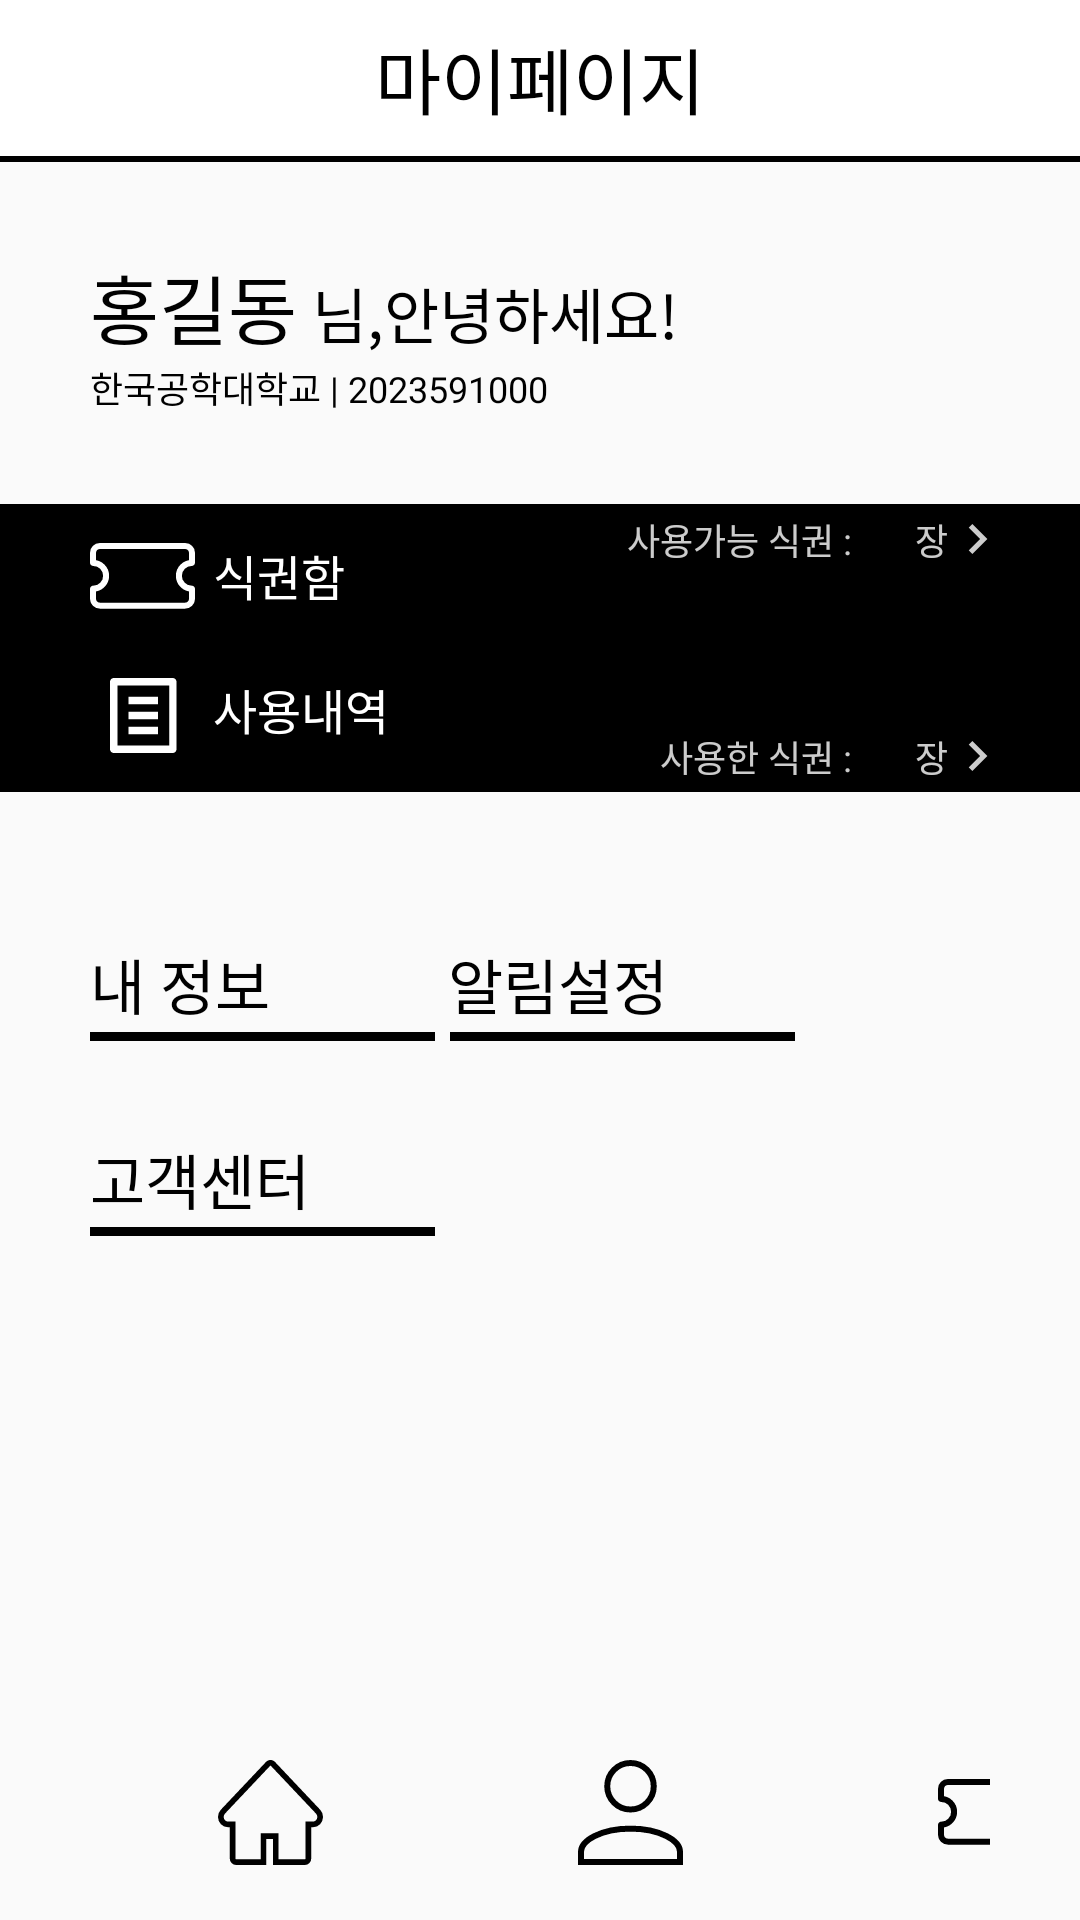

Icons on this 1080×1920 Android screen, each with its box as (x1, y1, x2, y2):
list: (110, 678, 177, 753)
ticket: (90, 543, 195, 609)
마이페이지 버튼: (578, 1760, 683, 1865)
홈 버튼: (218, 1760, 323, 1865)
